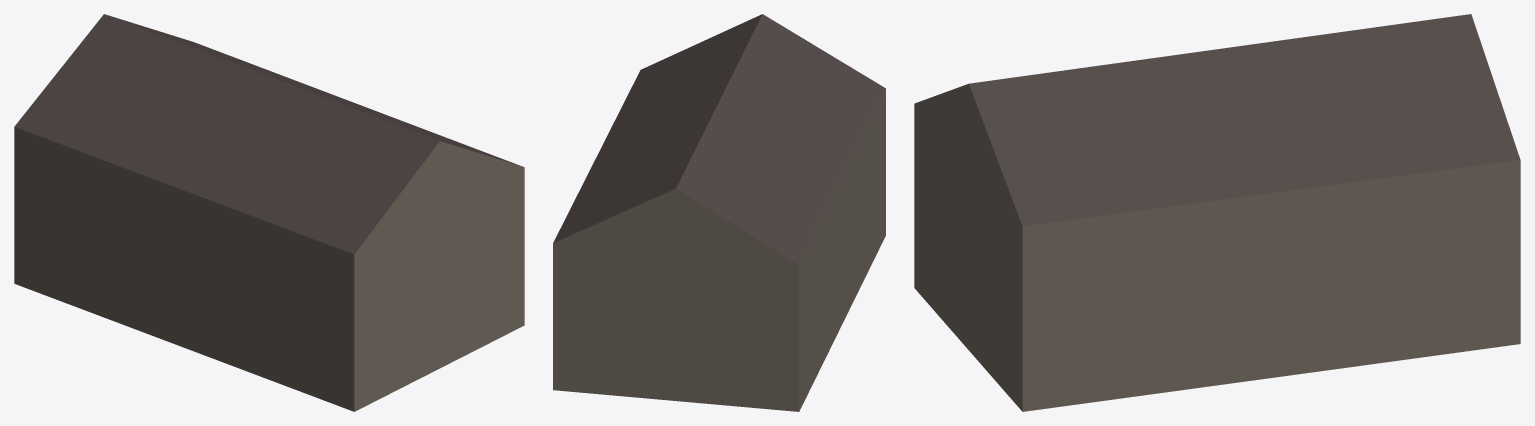
3 views of the same model, side by side, from view 1: azimuth 30°, elevation 25°; view 2: azimuth 150°, elevation 25°; view 3: azimuth 270°, elevation 25° (orthographic). The views are drawn at different scales.
Parts seen in each view (by area): view 1: HP-w1516161918; view 2: HP-w1516161918; view 3: HP-w1516161918.
Part boxes in pixels (x1,y1,x2,y2): HP-w1516161918: (14,14,524,411); HP-w1516161918: (553,14,885,411); HP-w1516161918: (914,14,1520,411).
Size of the model in its own units: 13.6 by 8.69 by 17.89.
